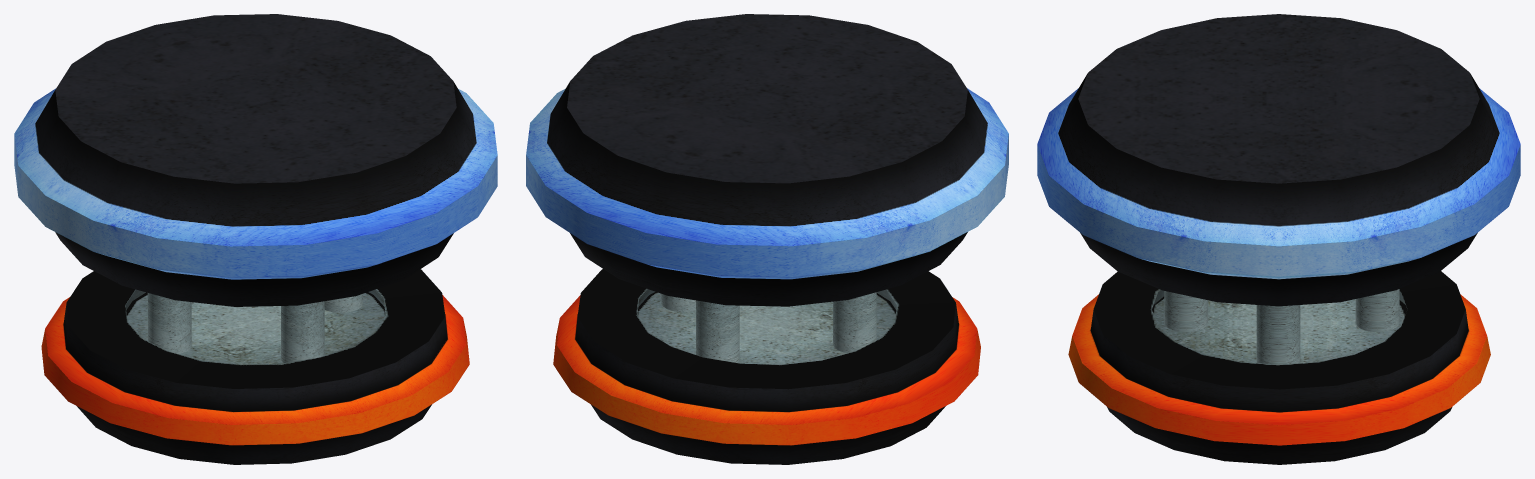
File: crusher.fbx
3 views of the same model, side by side, from view 1: azimuth 30°, elevation 25°; view 2: azimuth 150°, elevation 25°; view 3: azimuth 270°, elevation 25° (orthographic).
Visible parts, largest first — view 1: top_part, bottom_part1; view 2: top_part, bottom_part1; view 3: top_part, bottom_part1.
Part boxes in pixels (box(x1,y1,x2,y2)): top_part: box(14, 14, 497, 306); bottom_part1: box(41, 269, 469, 464); top_part: box(526, 14, 1008, 306); bottom_part1: box(553, 269, 980, 464); top_part: box(1037, 14, 1520, 306); bottom_part1: box(1068, 271, 1490, 464).
Bounding box in the file's own units: 12.52 × 8.24 × 12.52.
1 material, 1 textured.
